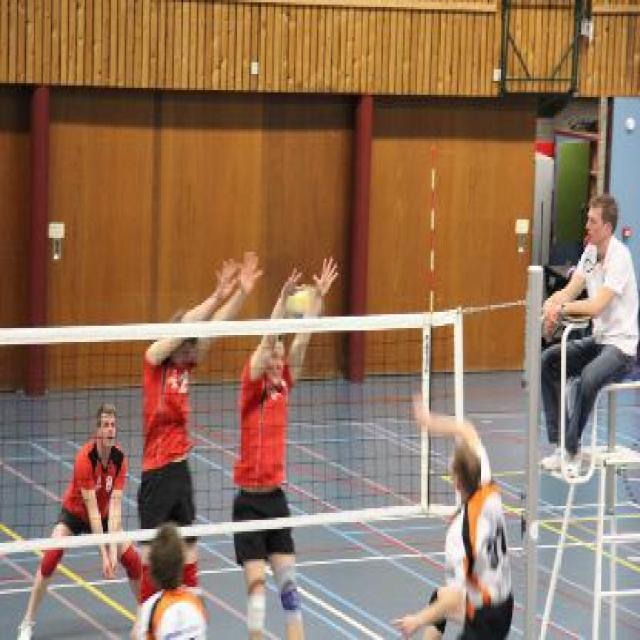volleyball: (286, 289, 322, 319)
